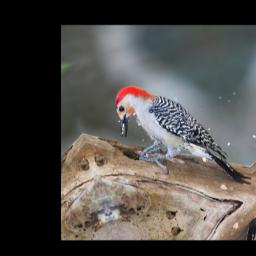Woodpecker: (108, 63, 250, 214)
